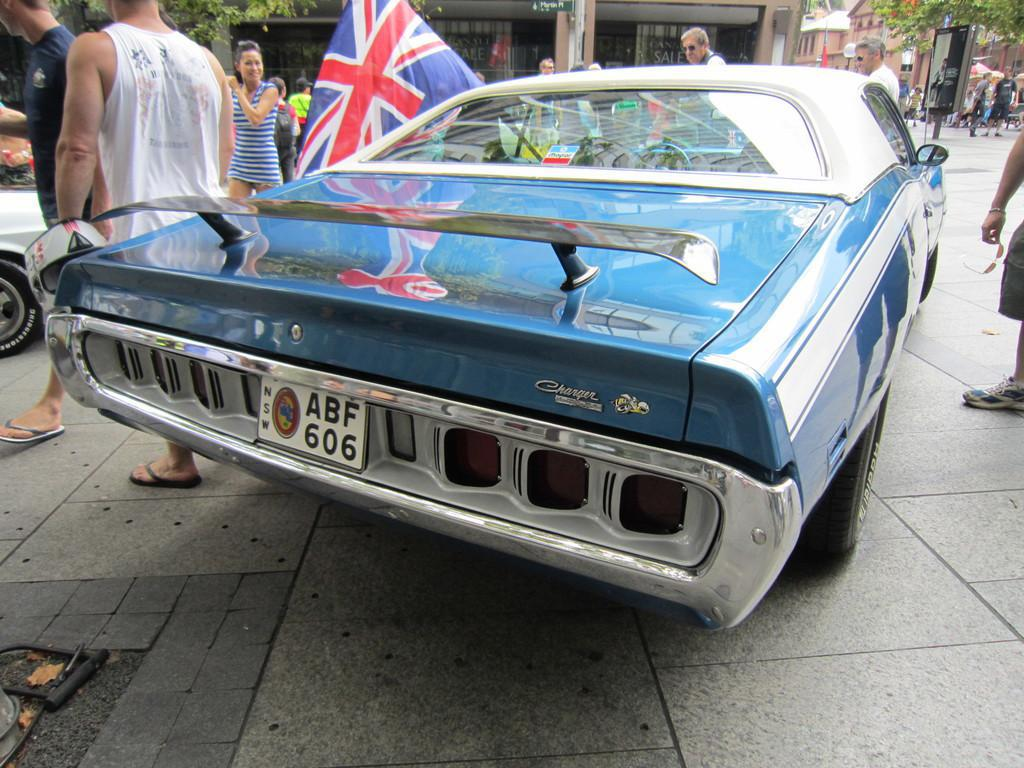License_Plate: (255, 378, 365, 474)
